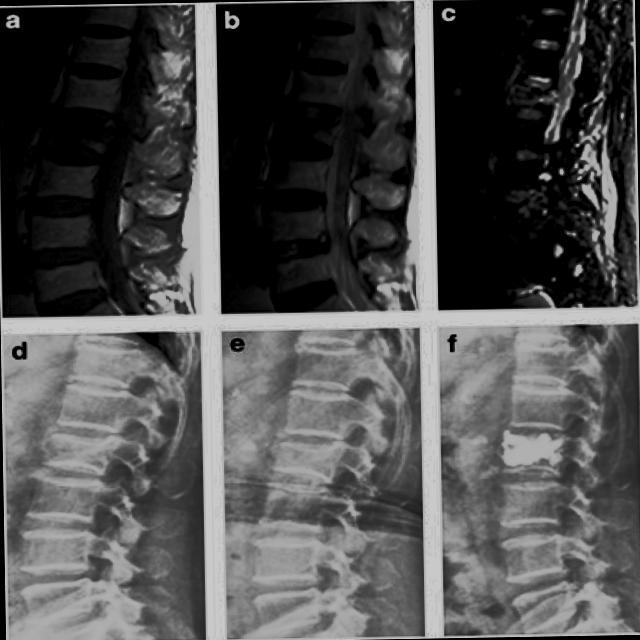Compression-Crush Fracutre: (27, 431, 139, 478), (486, 421, 574, 475), (251, 437, 350, 481)
